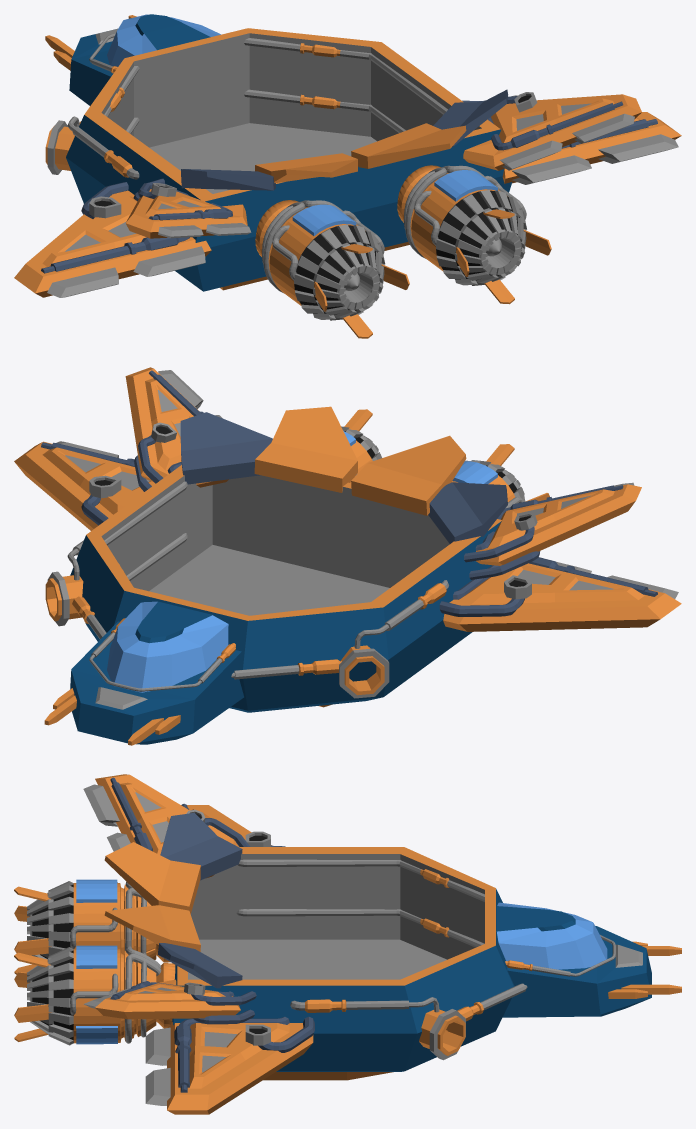
The model's file is SpaceScrap.fbx.
3 renders of one model, top to bottom at view 1: azimuth 30°, elevation 25°; view 2: azimuth 150°, elevation 25°; view 3: azimuth 270°, elevation 25°, orthographic. The views are drawn at different scales.
Parts seen in each view (by area): view 1: SpaceScrapMk0; view 2: SpaceScrapMk0; view 3: SpaceScrapMk0.
Part boxes in pixels (x1,y1,x2,y2): SpaceScrapMk0: (14, 14, 681, 338); SpaceScrapMk0: (14, 367, 681, 745); SpaceScrapMk0: (14, 774, 681, 1114).
Size of the model in its own units: 1272 by 291 by 1192.
